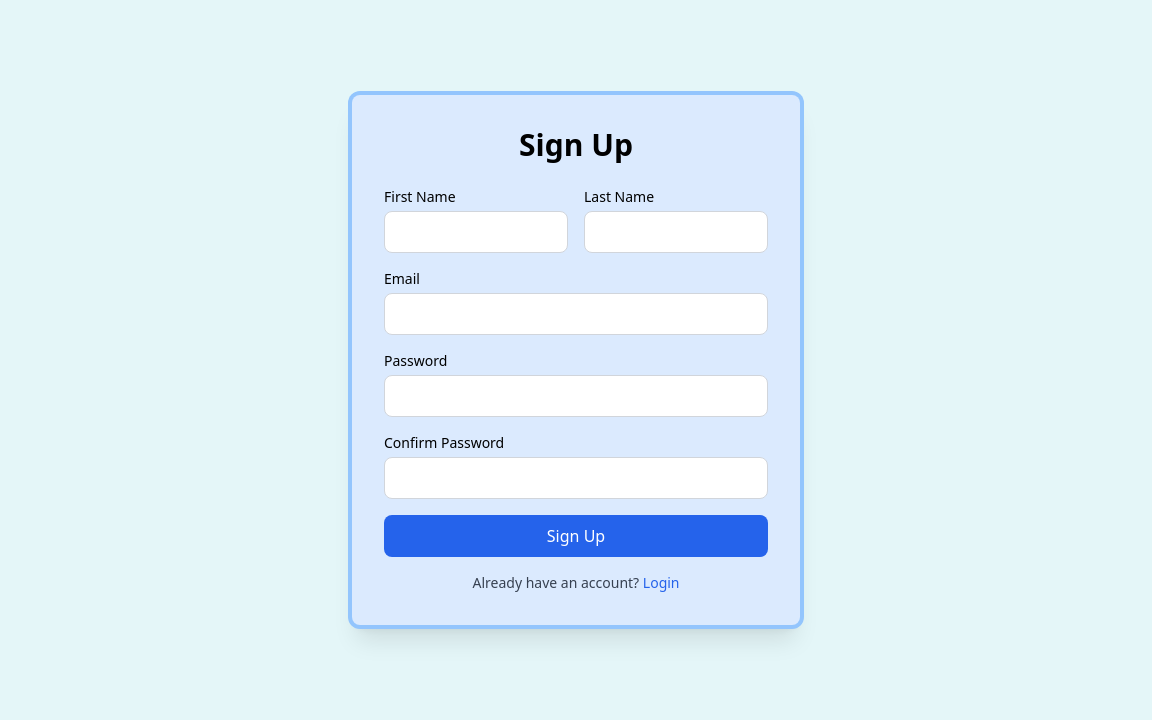
it: Signup page › shows error when email is already registered
The width and height of the screenshot is (1152, 720).
Type "Jane" into the field labelled "First Name" at [476, 232], box top-left (384, 211), bottom-right (568, 253)
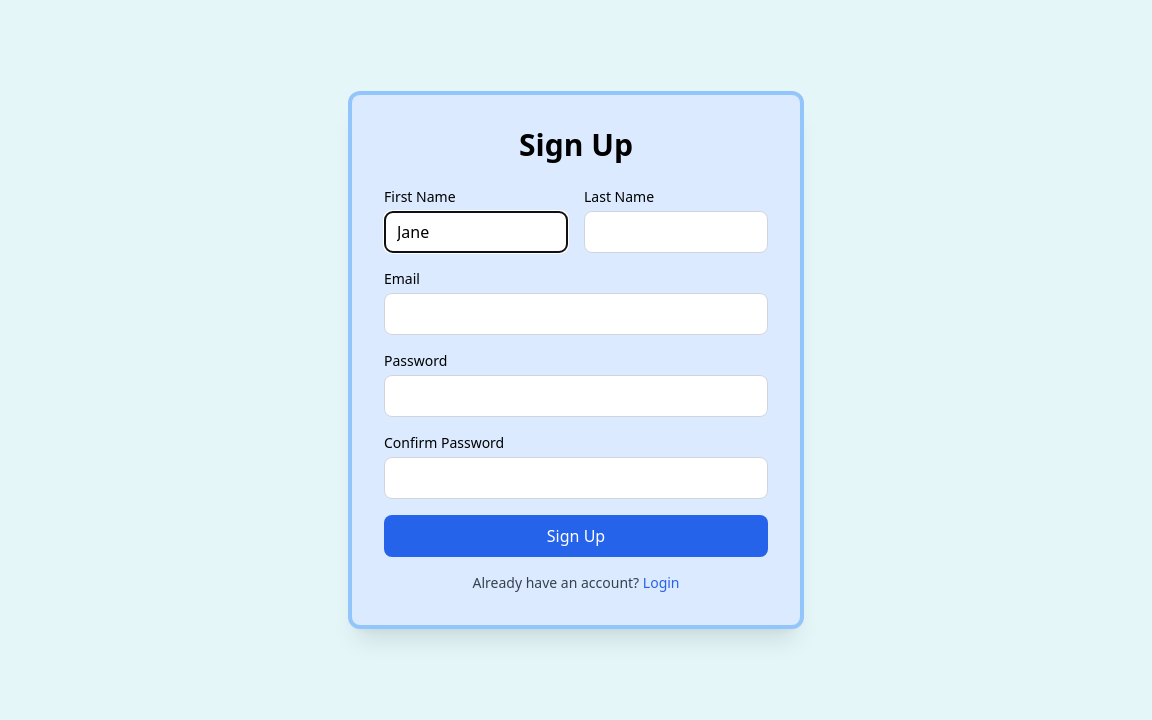
Type "Doe" into the field labelled "Last Name" at [676, 232], box top-left (584, 211), bottom-right (768, 253)
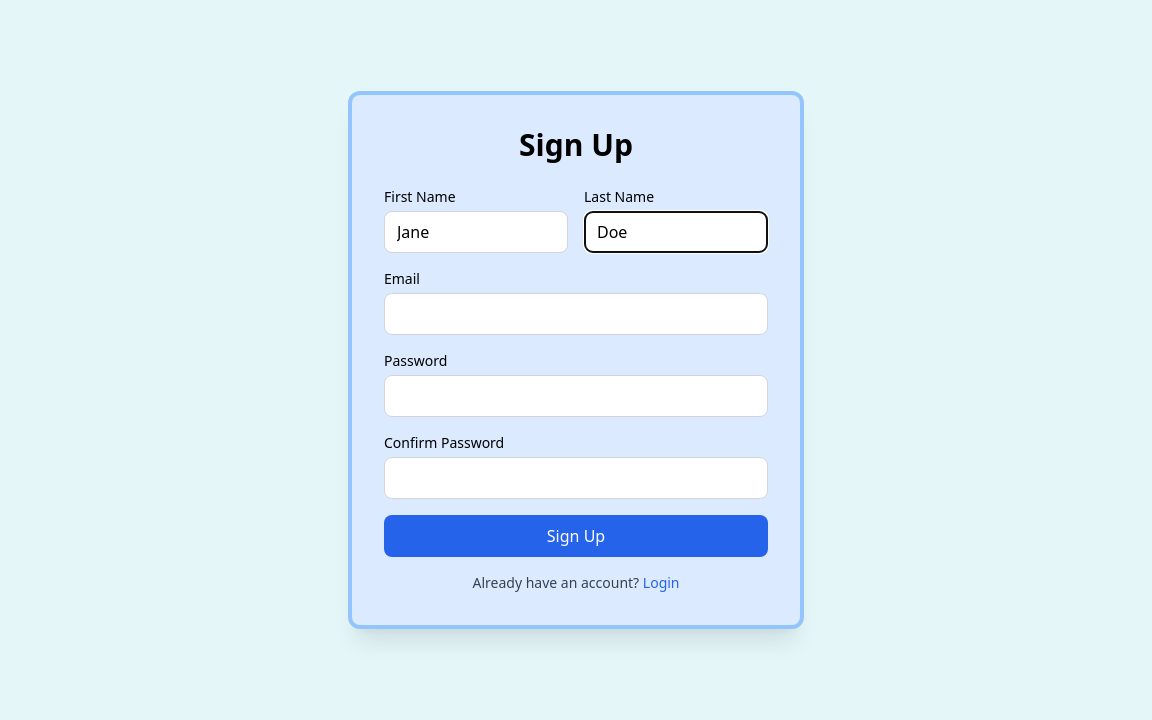
Type "existing@demo.com" into the field labelled "Email" at [576, 314], box top-left (384, 293), bottom-right (768, 335)
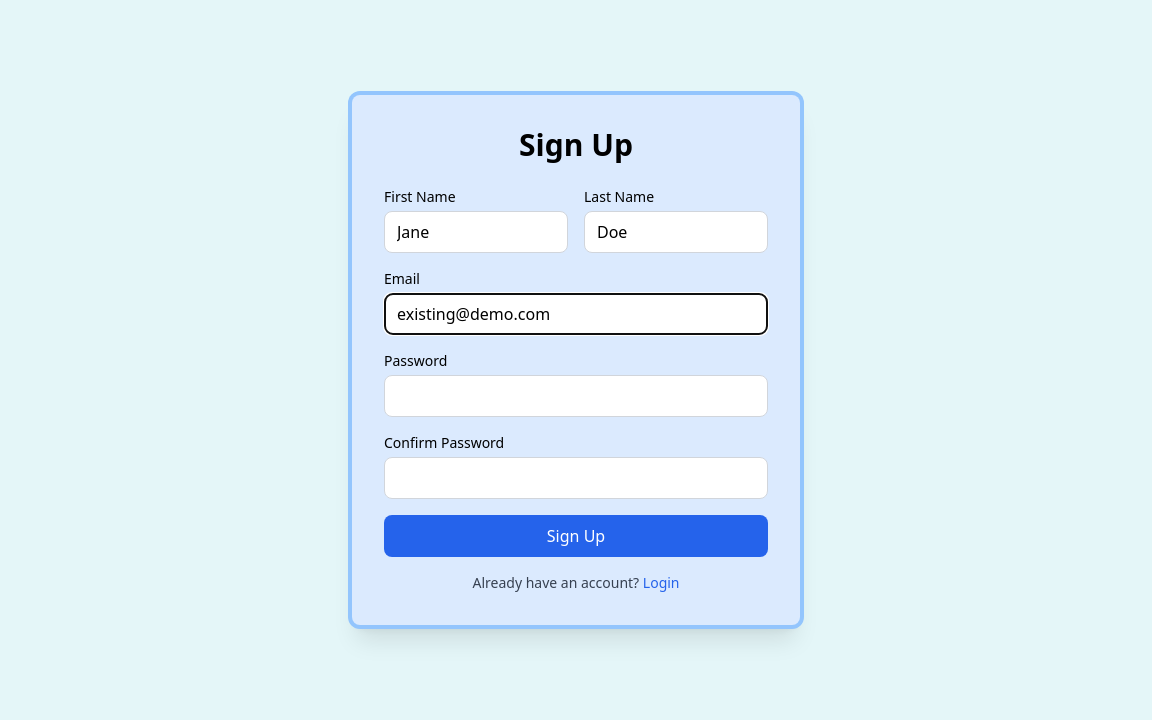
Type "Password1!" into the password field labelled "Password" at [576, 396], box top-left (384, 375), bottom-right (768, 417)
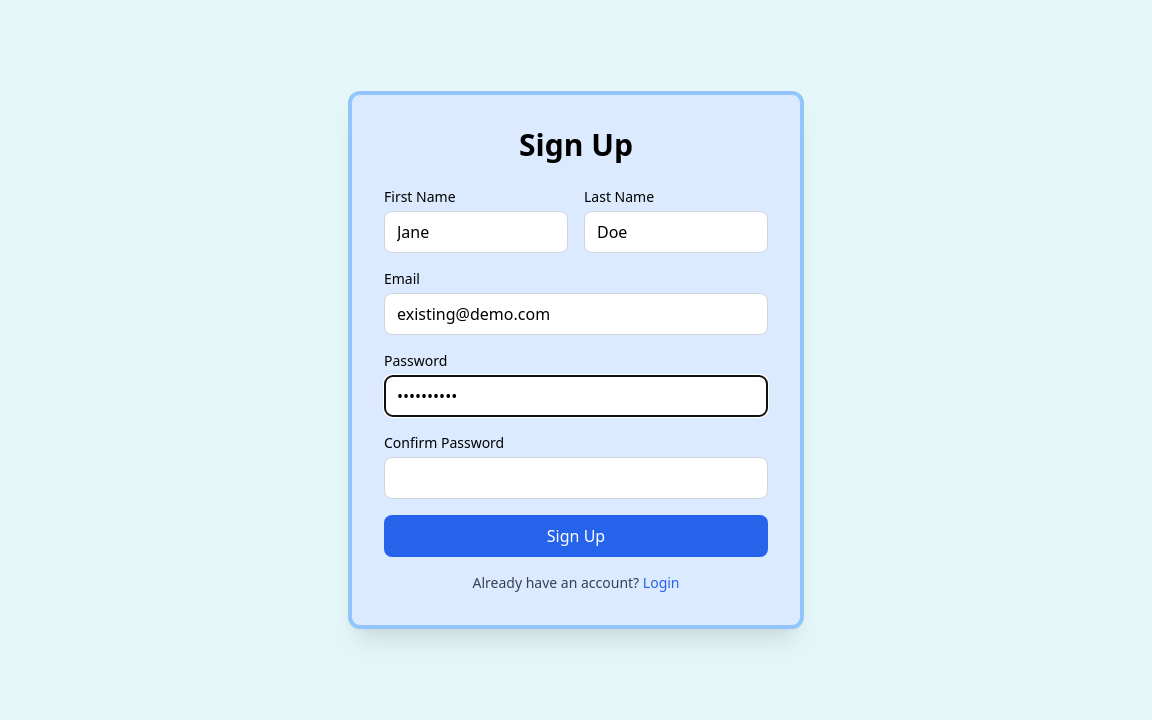
Type "Password1!" into the password field labelled "Confirm Password" at [576, 478], box top-left (384, 457), bottom-right (768, 499)
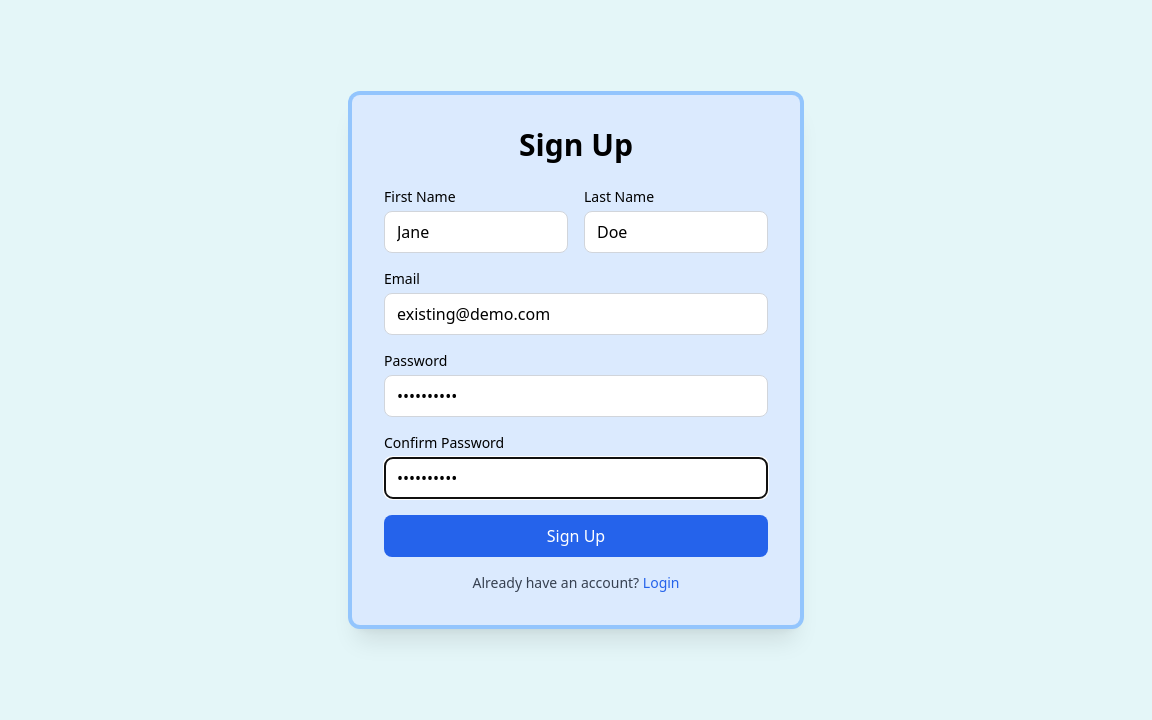
Click the button "Sign Up" at [576, 536], box top-left (384, 515), bottom-right (768, 557)
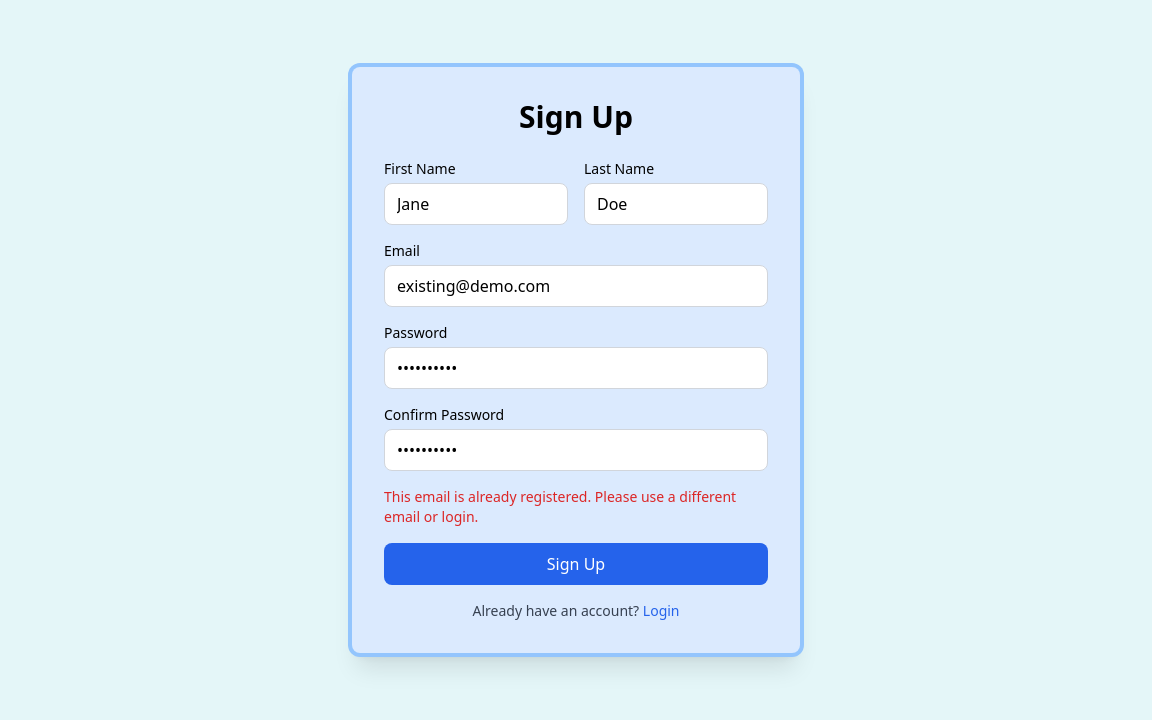
Check: the text "This email is already registered" is shown, box top-left (384, 487), bottom-right (736, 526)
